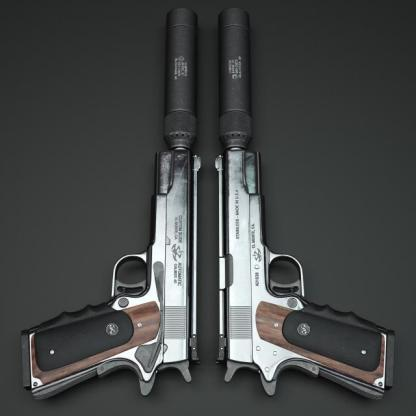handgun: (219, 11, 395, 402), (21, 11, 197, 395)
